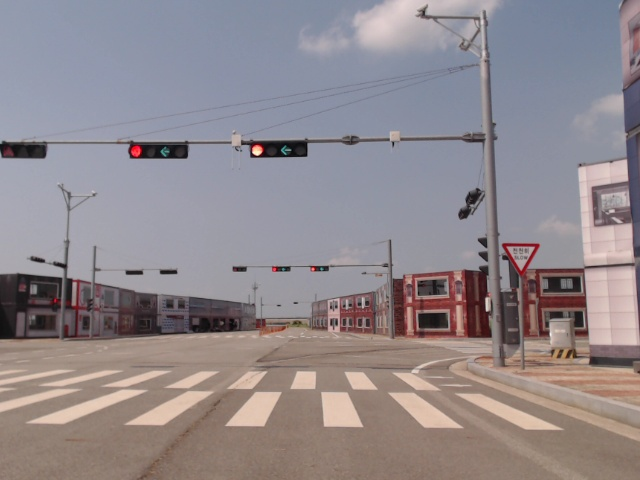left_green_4: (128, 143, 189, 159), (252, 142, 307, 157), (310, 266, 328, 272), (272, 267, 291, 271)
